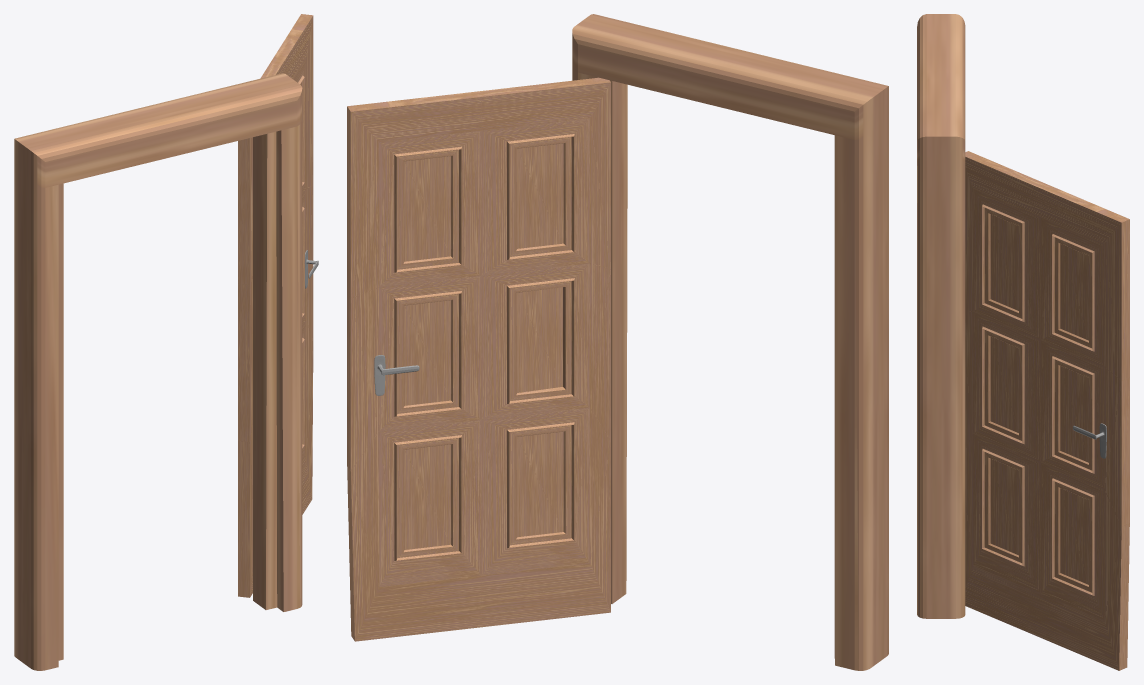
Rendered from wooden_door_open.dae.
3 views of the same model, side by side, from view 1: azimuth 30°, elevation 25°; view 2: azimuth 150°, elevation 25°; view 3: azimuth 270°, elevation 25° (orthographic). The views are drawn at different scales.
Visible parts, largest first — view 1: Door, Wood Board; view 2: Wood Board, Door; view 3: Wood Board, Door, Handle_Handle.001.
Part boxes in pixels (x1=…): Door: x1=14, y1=73, x2=302, y2=670; Wood Board: x1=238, y1=14, x2=313, y2=597; Wood Board: x1=347, y1=77, x2=610, y2=641; Door: x1=572, y1=14, x2=888, y2=670; Wood Board: x1=965, y1=151, x2=1129, y2=670; Door: x1=917, y1=14, x2=965, y2=618; Handle_Handle.001: x1=1073, y1=423, x2=1106, y2=458.
Bounding box in the file's own units: 1.72 × 0.8798 × 2.2.
